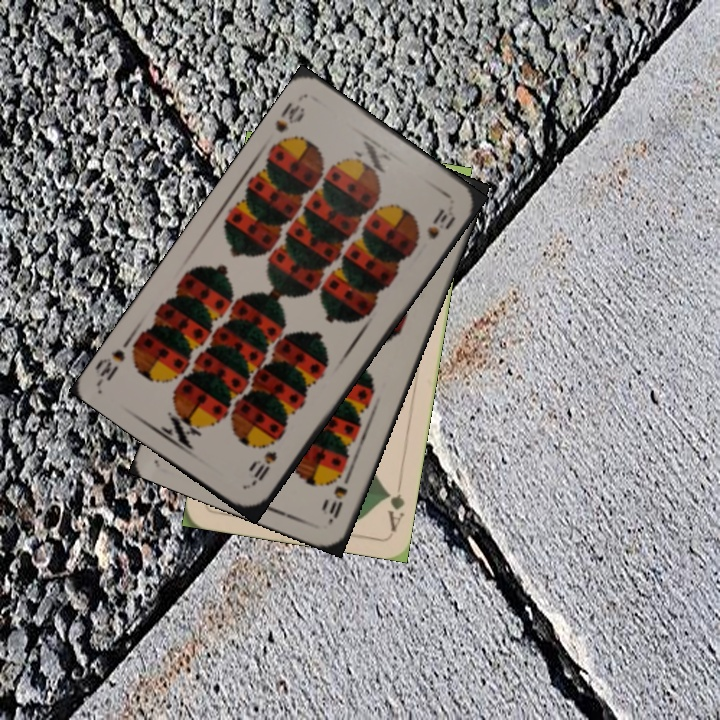GA: (382, 475, 407, 534)
S10: (324, 468, 354, 525), (246, 447, 280, 489), (271, 98, 308, 136)
